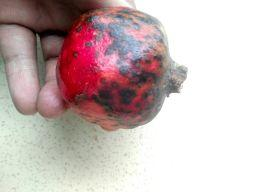pomegranate: (56, 7, 189, 131)
